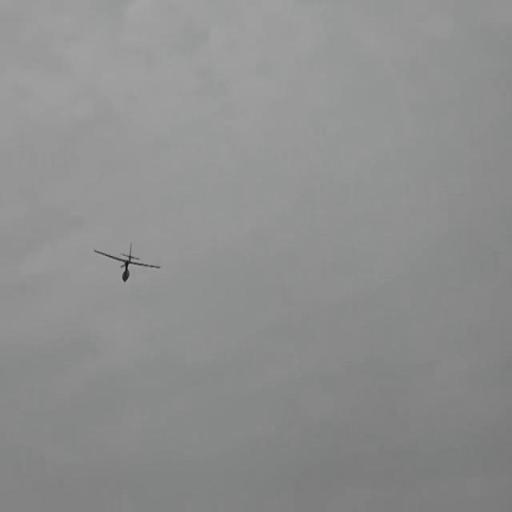uav: (94, 243, 162, 282)
